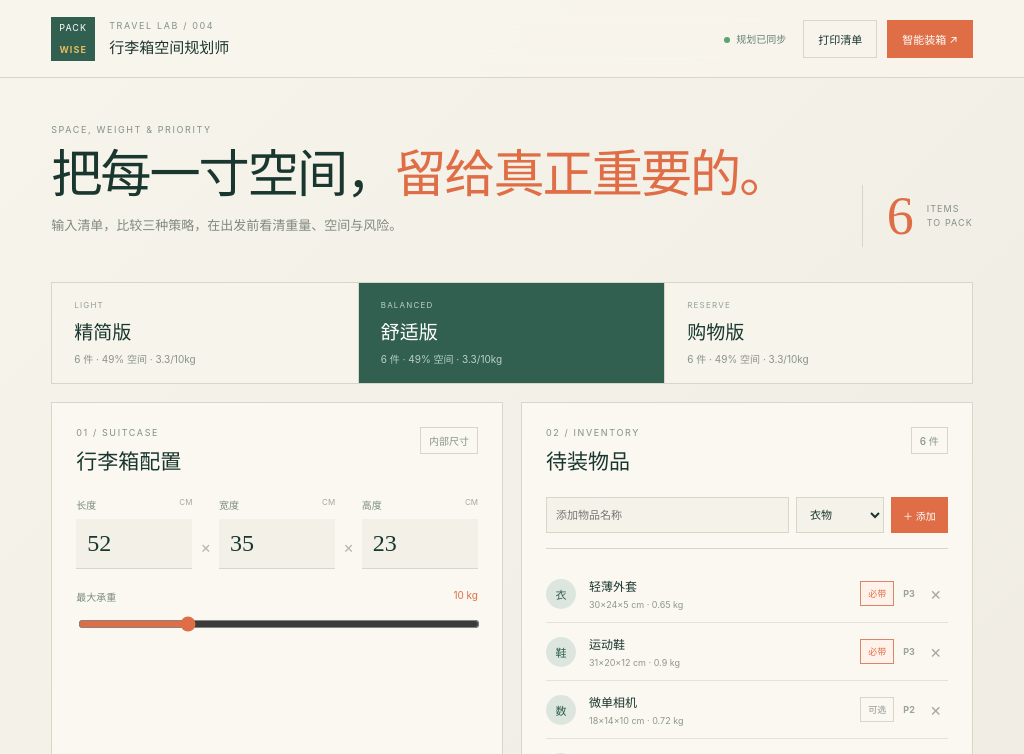
Test: Luggage planner App › renders sample luggage and catches invalid dimensions
Replace the text in the number field named "行李箱长度" with "0" at (134, 544), box left=76, top=519, right=192, bottom=569
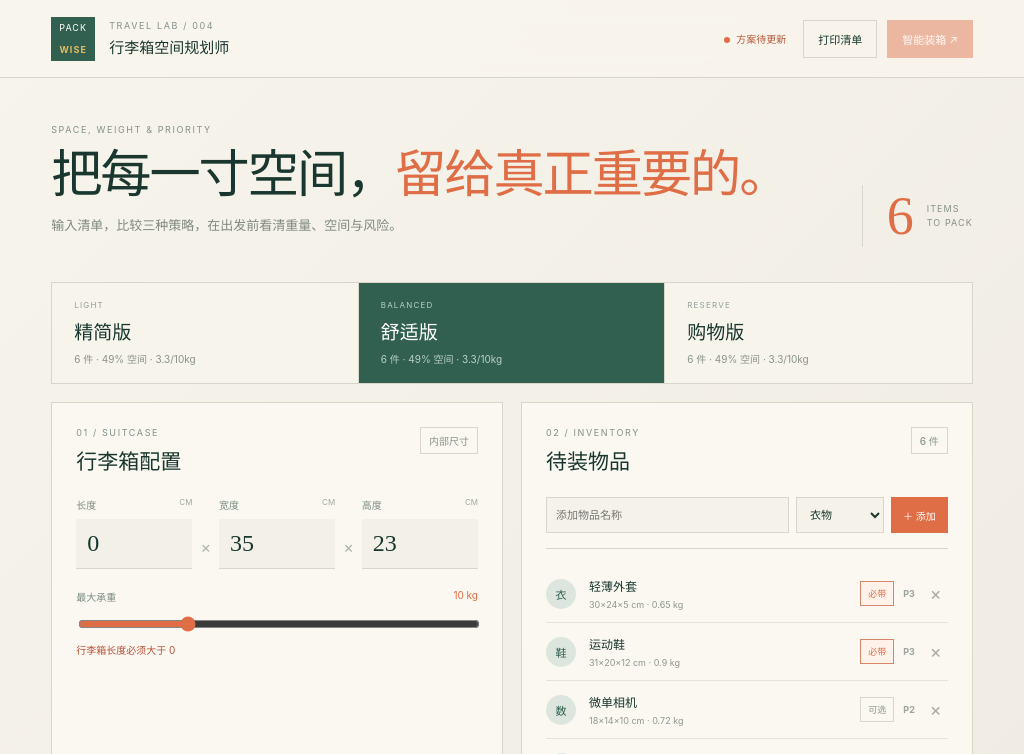
Now the text "行李箱长度必须大于 0" is shown, box left=76, top=644, right=175, bottom=656
